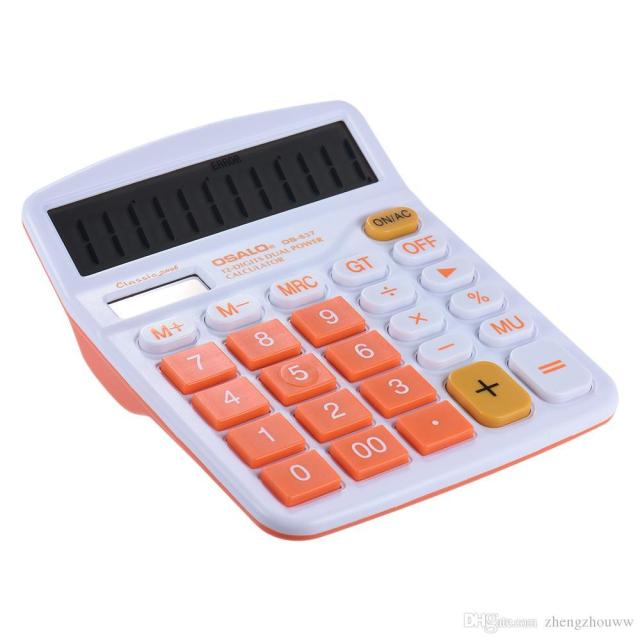Calculator: (16, 75, 640, 549)
